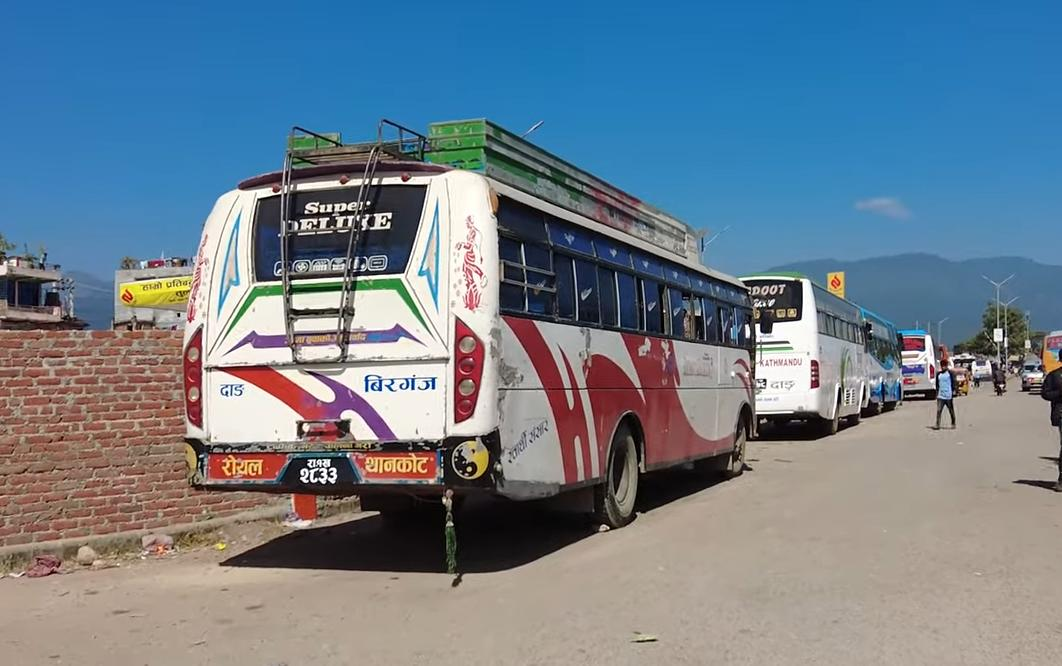bus: (172, 117, 778, 545), (741, 268, 877, 445), (892, 325, 943, 404)
